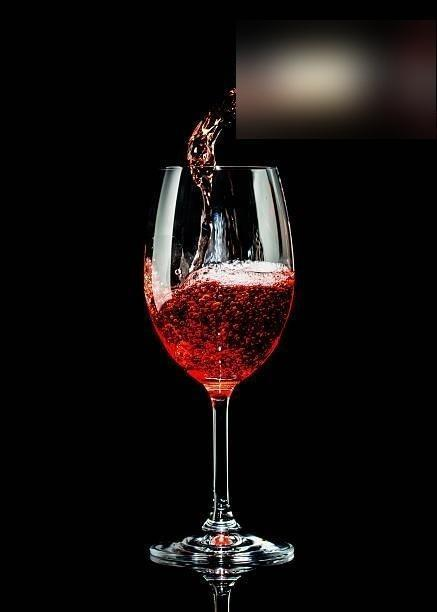glass-wine: (141, 160, 298, 573)
